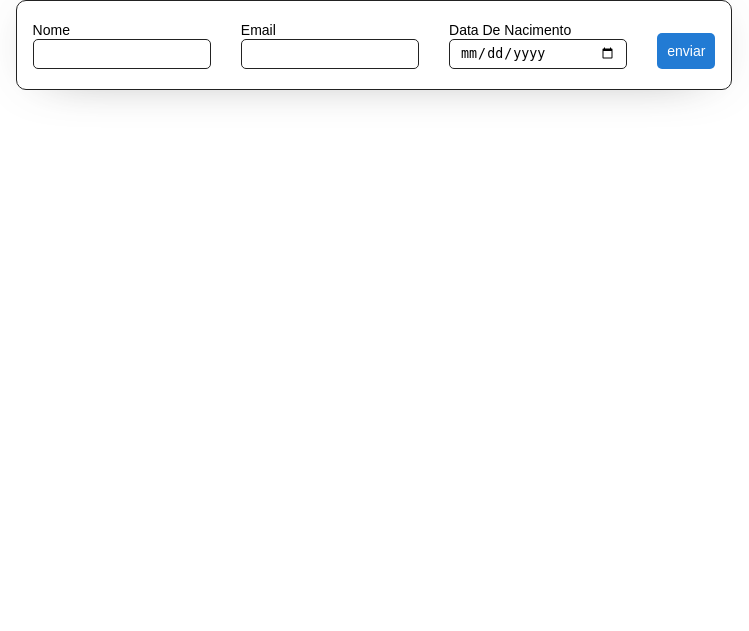
<Form /> › should return an error for not adding a date
The width and height of the screenshot is (749, 631).
Step 1. Type "eduardo" into the field labelled "nome" → (122, 54), box x1=33 y1=38 x2=211 y2=68
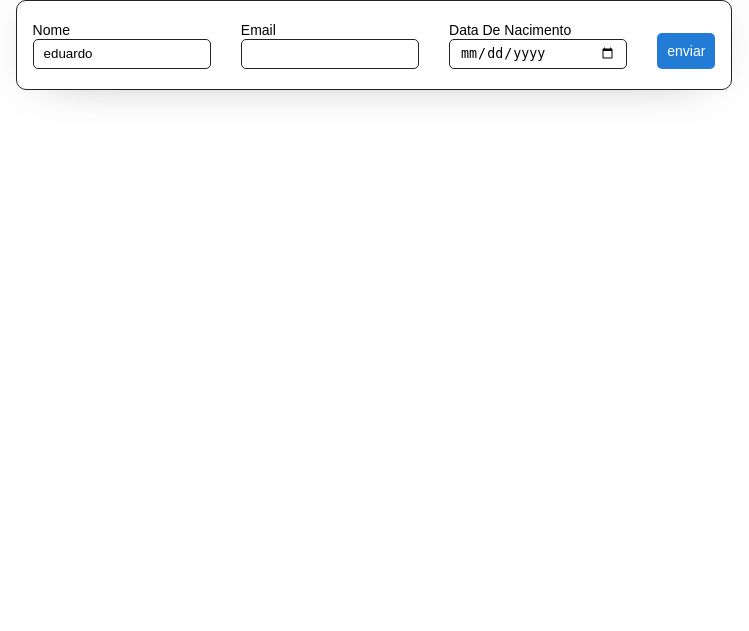
Step 2. Type "eduardo@gmail.com" into the field labelled "email" → (330, 54), box x1=241 y1=38 x2=419 y2=68
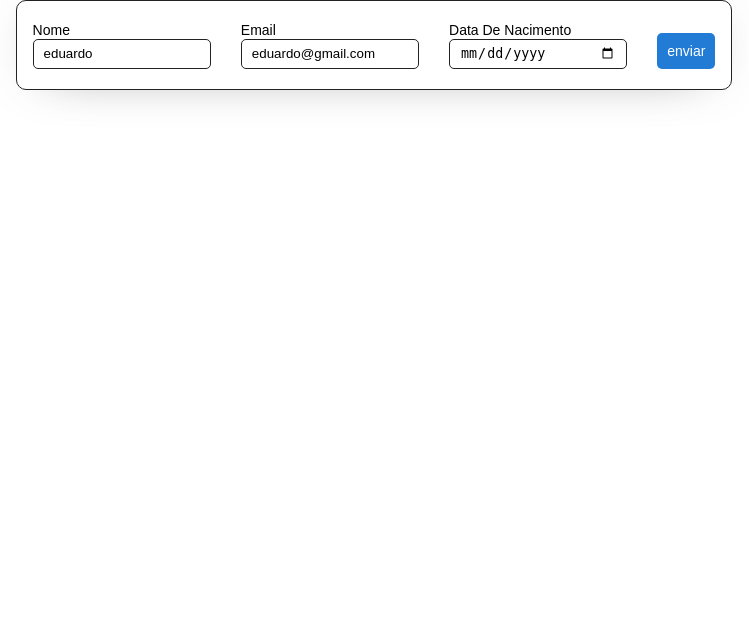
Step 3. Click the button → (686, 51), box x1=657 y1=33 x2=715 y2=69
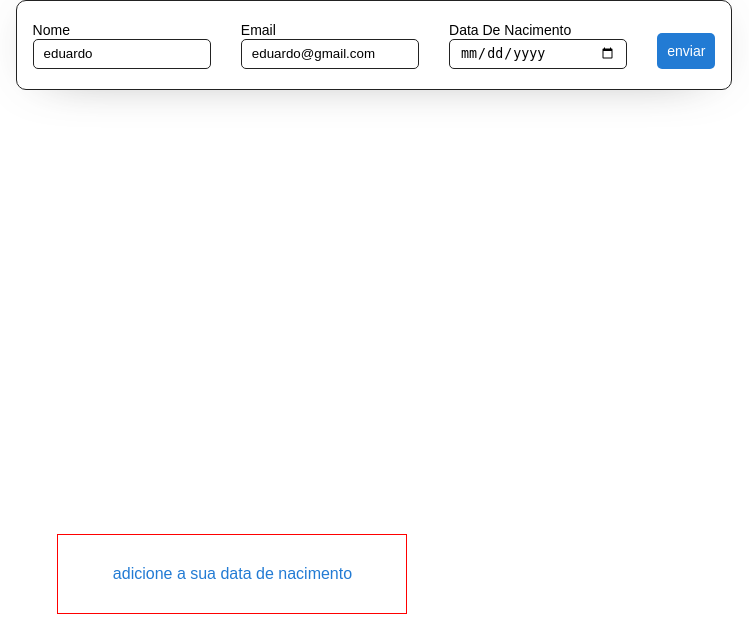
Now the message reads "adicione a sua data de nacimento", box x1=113 y1=565 x2=352 y2=582
